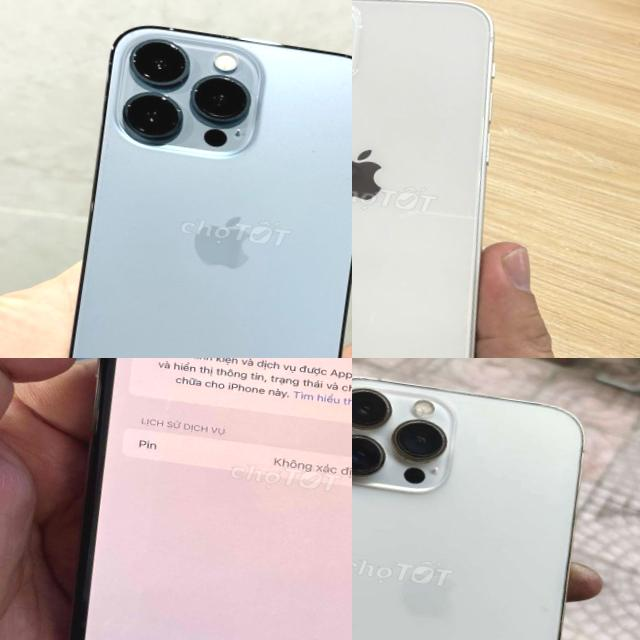gen_11: (35, 358, 352, 640)
gen_12_13: (45, 16, 352, 358), (352, 368, 605, 640), (352, 0, 530, 358)
